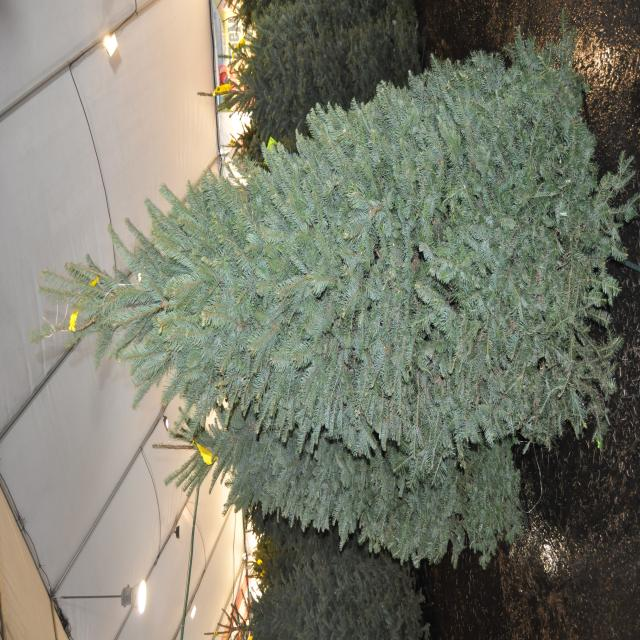Christmas-tree: (129, 69, 373, 640)
